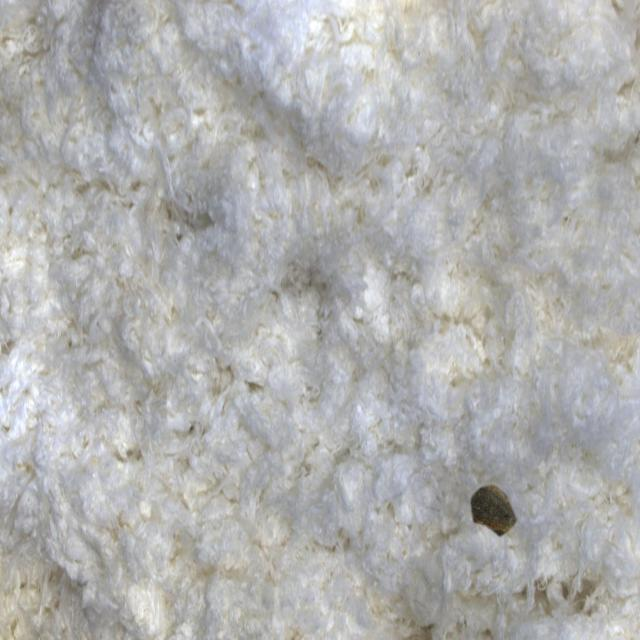dust: (458, 456, 541, 570)
